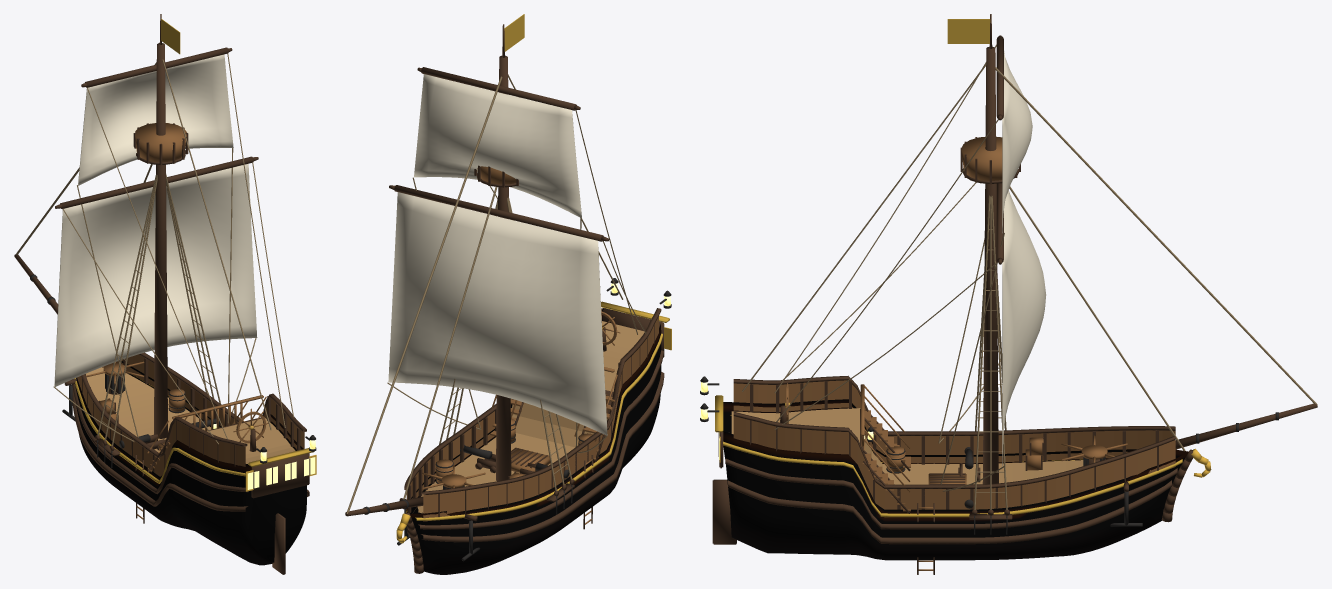
The model's file is chalupa.glb.
3 views of the same model, side by side, from view 1: azimuth 30°, elevation 25°; view 2: azimuth 150°, elevation 25°; view 3: azimuth 270°, elevation 25° (orthographic). The views are drawn at different scales.
Visible parts, largest first — view 1: Vela_0, Casco, Vela_1, Mastro, Conves, Borda_-1.0, Borda_1.0, Cesto, Cinta_B, Espelho, Verga, Cinta2_B (+21 smaller); view 2: Vela_0, Vela_1, Casco, Conves, Borda_-1.0, Cinta_B, Mastro, Cinta2_B, Corrimao_-1.0, Verga, Estai, Cinta3_B (+8 smaller); view 3: Casco, Borda_1.0, Borda_-1.0, Vela_0, Mastro, Conves, Cinta_E, Cinta2_E, Vela_1, Corrimao_1.0, Corrimao_-1.0, Cinta3_E (+7 smaller).
Part boxes in pixels (box(x1,y1,x2,y2)): Vela_0: box(54, 163, 257, 387); Casco: box(75, 360, 306, 565); Vela_1: box(78, 54, 233, 185); Mastro: box(154, 43, 167, 438); Conves: box(86, 367, 295, 463); Borda_-1.0: box(77, 376, 245, 476); Borda_1.0: box(112, 354, 304, 449); Cesto: box(135, 123, 186, 162); Cinta_B: box(72, 389, 247, 511); Espelho: box(251, 453, 309, 498); Verga: box(60, 156, 253, 208); Cinta2_B: box(72, 379, 248, 494); Vela_0: box(388, 192, 607, 435); Vela_1: box(414, 74, 581, 218); Casco: box(406, 309, 661, 574); Conves: box(417, 321, 644, 513); Borda_-1.0: box(423, 316, 658, 521); Cinta_B: box(421, 372, 664, 542); Mastro: box(496, 55, 511, 481); Cinta2_B: box(418, 350, 663, 529); Corrimao_-1.0: box(421, 308, 661, 494); Verga: box(394, 185, 603, 241); Estai: box(346, 76, 502, 513); Cinta3_B: box(415, 333, 662, 520); Casco: box(723, 399, 1188, 560); Borda_1.0: box(733, 416, 1175, 509); Borda_-1.0: box(733, 380, 1175, 463); Vela_0: box(1002, 190, 1046, 466); Mastro: box(982, 46, 998, 484); Conves: box(731, 409, 1083, 484); Cinta_E: box(728, 480, 1171, 544); Cinta2_E: box(725, 458, 1177, 529); Vela_1: box(1002, 51, 1032, 233); Corrimao_1.0: box(733, 411, 1175, 488); Corrimao_-1.0: box(733, 375, 1175, 435); Cinta3_E: box(723, 441, 1182, 517).
Size of the model in its own units: 9.79 by 22.02 by 22.88.
